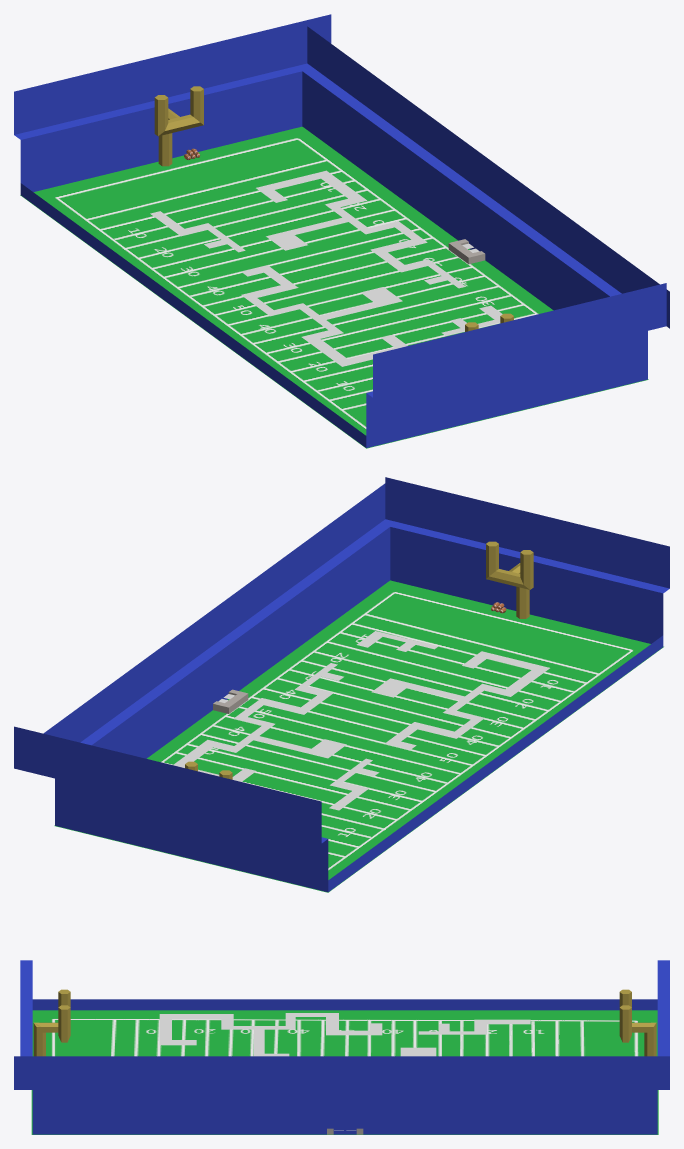
The model's file is maze.glb.
3 views of the same model, one above another, from view 1: azimuth 30°, elevation 25°; view 2: azimuth 150°, elevation 25°; view 3: azimuth 270°, elevation 25° (orthographic). The views are drawn at different scales.
Parts seen in each view (by area): view 1: stadium, ground, goalpostA; view 2: stadium, ground, goalpostB; view 3: stadium, ground, goalpostA, goalpostB, Plane.012, Plane.013.
Part boxes in pixels (box(x1,y1,x2,y2)): stadium: box(14, 14, 669, 447); ground: box(20, 126, 648, 448); goalpostA: box(154, 86, 203, 166); stadium: box(14, 477, 669, 892); ground: box(54, 580, 663, 892); goalpostB: box(486, 541, 533, 618); stadium: box(14, 960, 669, 1134); ground: box(31, 1010, 658, 1134); goalpostA: box(619, 989, 656, 1056); goalpostB: box(33, 989, 70, 1056); Plane.012: box(159, 1014, 221, 1019); Plane.013: box(159, 1019, 171, 1045).
Size of the model in its own units: 53.66 by 15.92 by 106.
Materials: 15 (15 with a texture image).
